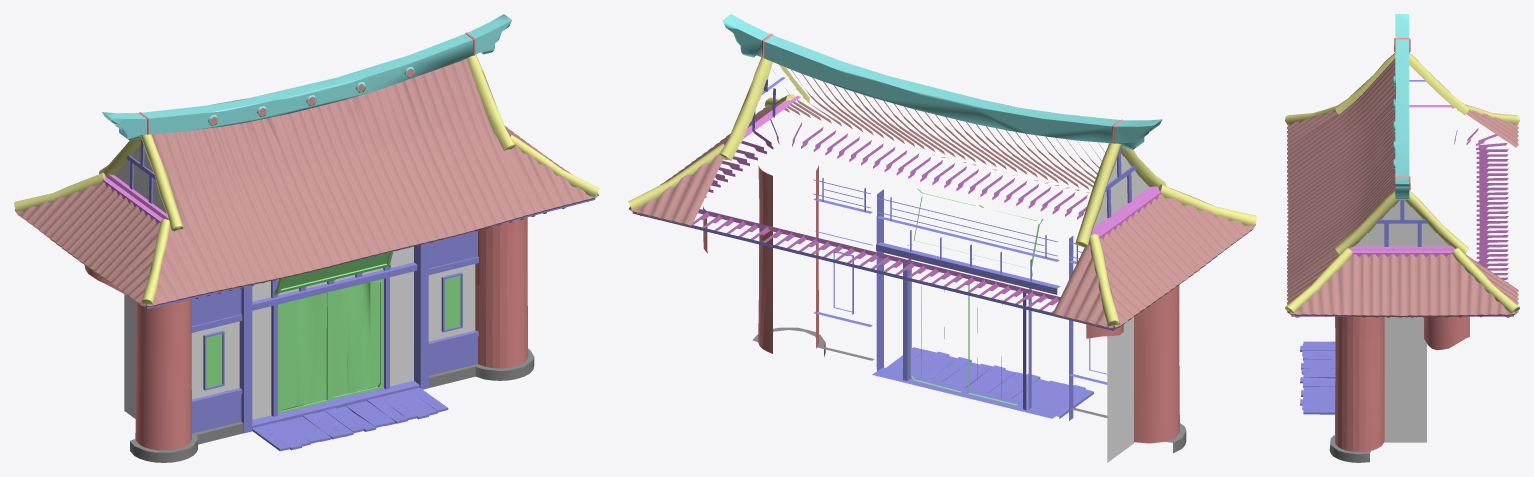
Rendered from SM_ENV_LKNVLD_Hokage_Gate_Front_Lod3.gltf.
3 views of the same model, side by side, from view 1: azimuth 30°, elevation 25°; view 2: azimuth 150°, elevation 25°; view 3: azimuth 270°, elevation 25° (orthographic). The views are drawn at different scales.
Visible parts, largest first — view 1: SM_ENV_LKNVLD_Hokage_Gate_Front_Lod3; view 2: SM_ENV_LKNVLD_Hokage_Gate_Front_Lod3; view 3: SM_ENV_LKNVLD_Hokage_Gate_Front_Lod3.
Boxes of the visible parts, left/top/right/bottom form: SM_ENV_LKNVLD_Hokage_Gate_Front_Lod3: left=14, top=14, right=599, bottom=462; SM_ENV_LKNVLD_Hokage_Gate_Front_Lod3: left=628, top=14, right=1256, bottom=462; SM_ENV_LKNVLD_Hokage_Gate_Front_Lod3: left=1285, top=14, right=1519, bottom=462.
Bounding box in the file's own units: 16.34 × 11.08 × 8.37.
